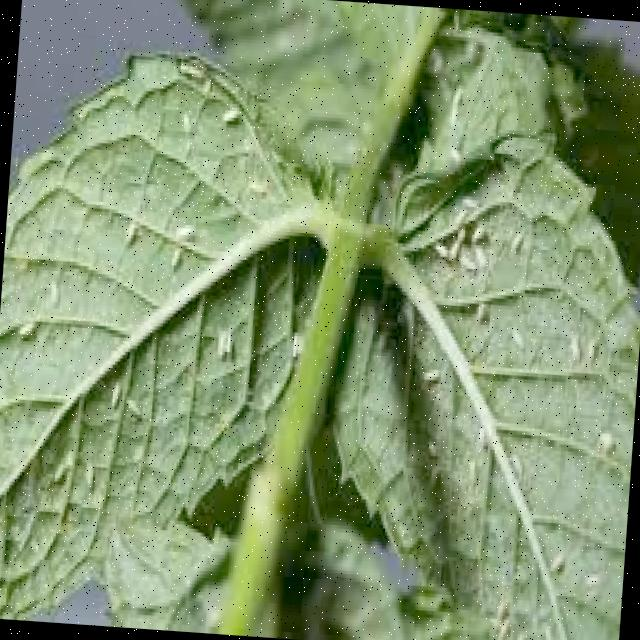whitefly: (9, 45, 328, 508), (398, 84, 640, 640)
